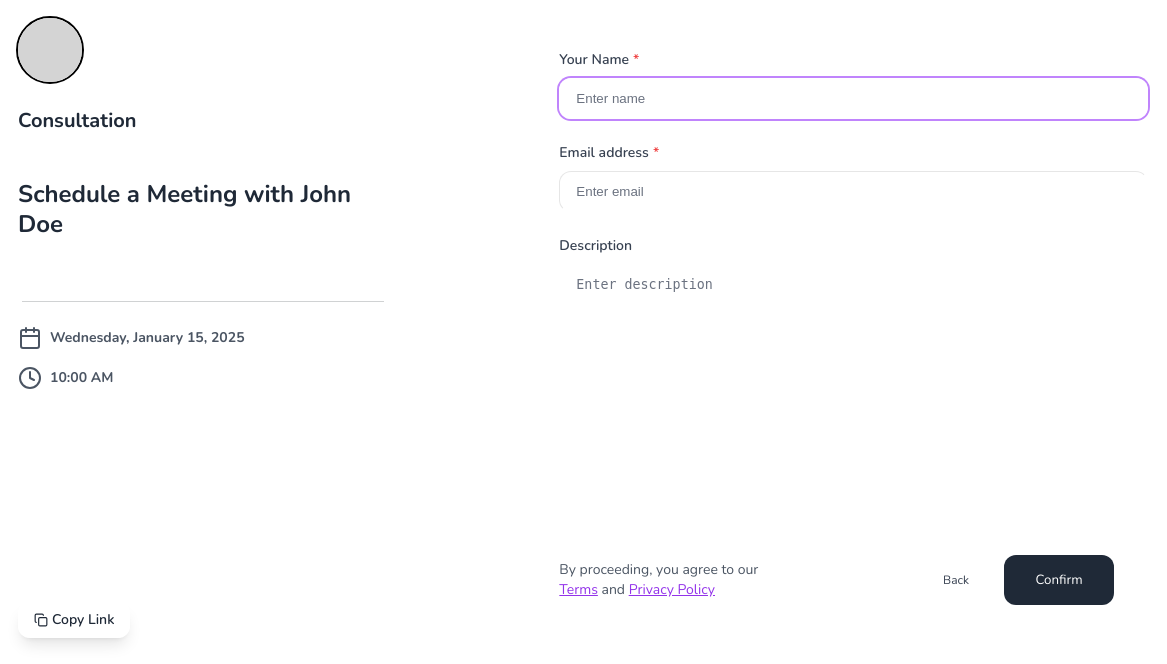
Test case: BookingForm › should apply custom validation rules
In the field named "your name": (854, 98) [559, 78, 1148, 119], type "AB"
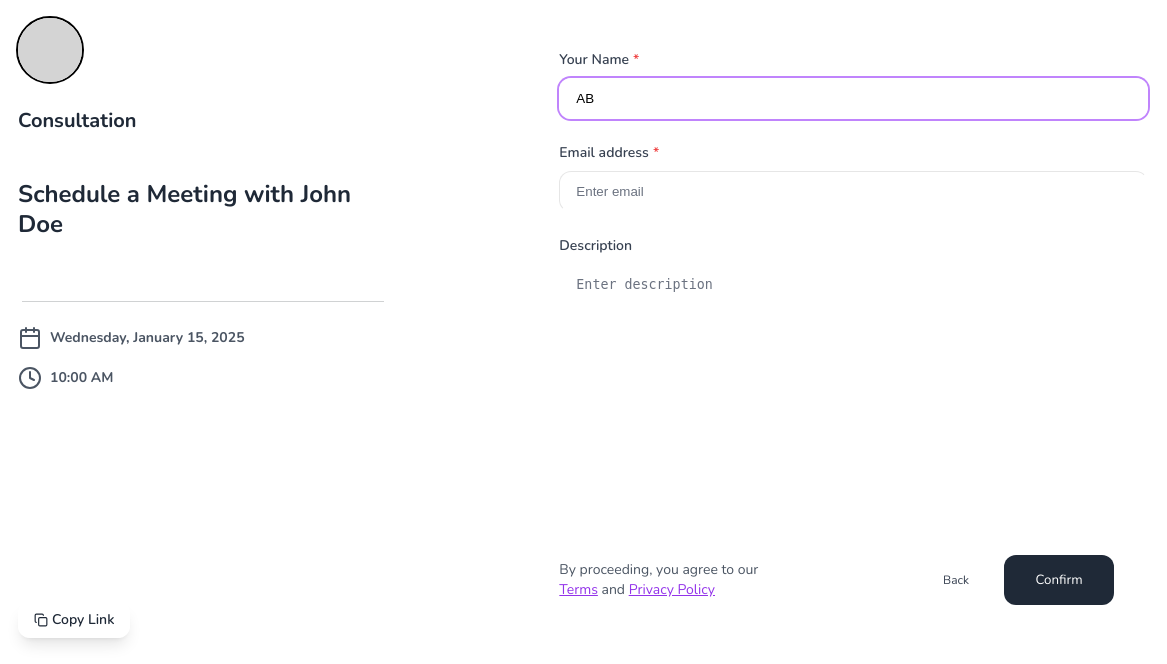
Press Tab
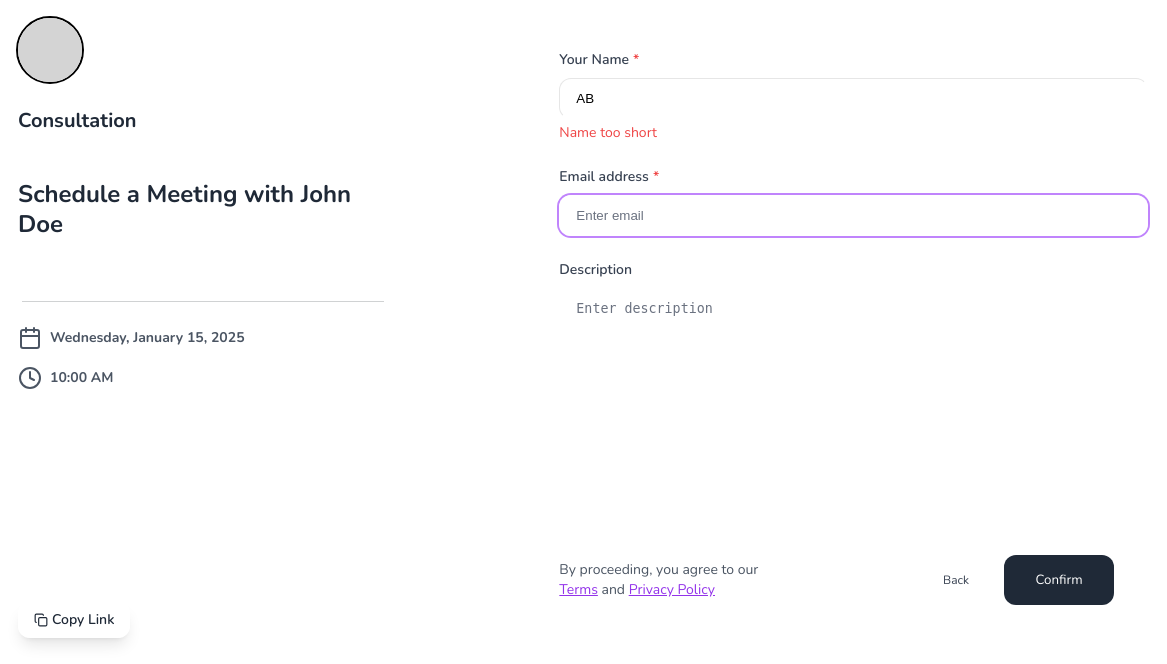
Check: the text "Name too short" is shown, box [559, 123, 657, 142]
